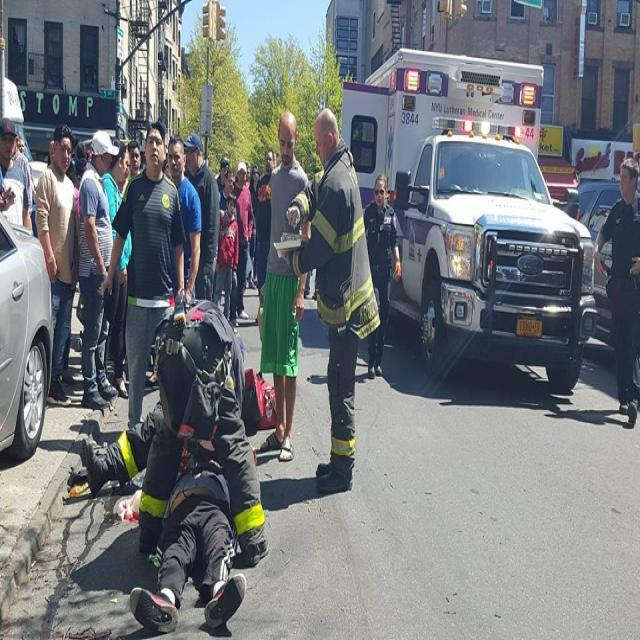body: (276, 101, 383, 494), (131, 290, 272, 572), (100, 117, 188, 433), (128, 423, 249, 639), (254, 107, 311, 466), (37, 121, 83, 416), (75, 126, 121, 414), (591, 155, 639, 430), (80, 396, 166, 496), (363, 170, 402, 382), (101, 138, 132, 402), (181, 130, 222, 302), (166, 133, 202, 302), (252, 147, 278, 329), (0, 116, 35, 231), (0, 116, 33, 233), (231, 161, 254, 321), (212, 191, 239, 321), (68, 138, 93, 234), (248, 164, 260, 286), (218, 168, 238, 229), (121, 138, 142, 196), (216, 155, 232, 196), (162, 144, 173, 182), (45, 138, 56, 170), (243, 160, 252, 188), (17, 134, 27, 159), (270, 150, 278, 172)
